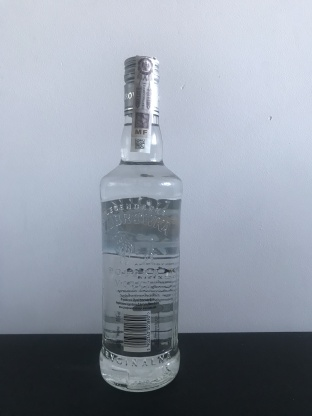nakretka: (121, 50, 162, 119)
